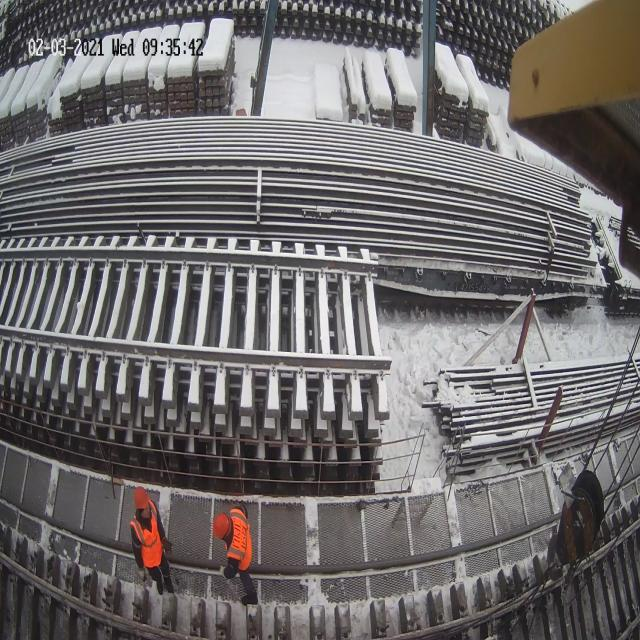Helmet: (213, 512, 230, 540), (134, 486, 149, 509)
Person: (129, 486, 174, 595), (212, 503, 258, 605)
